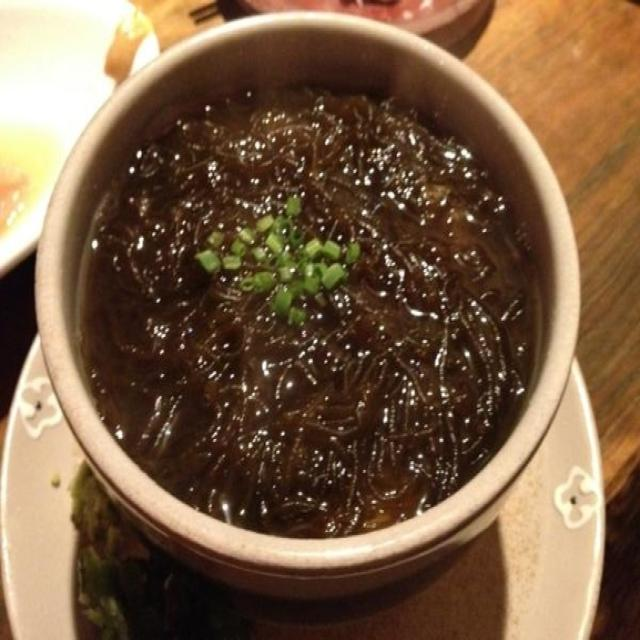蔬菜料理: (23, 2, 611, 594)
